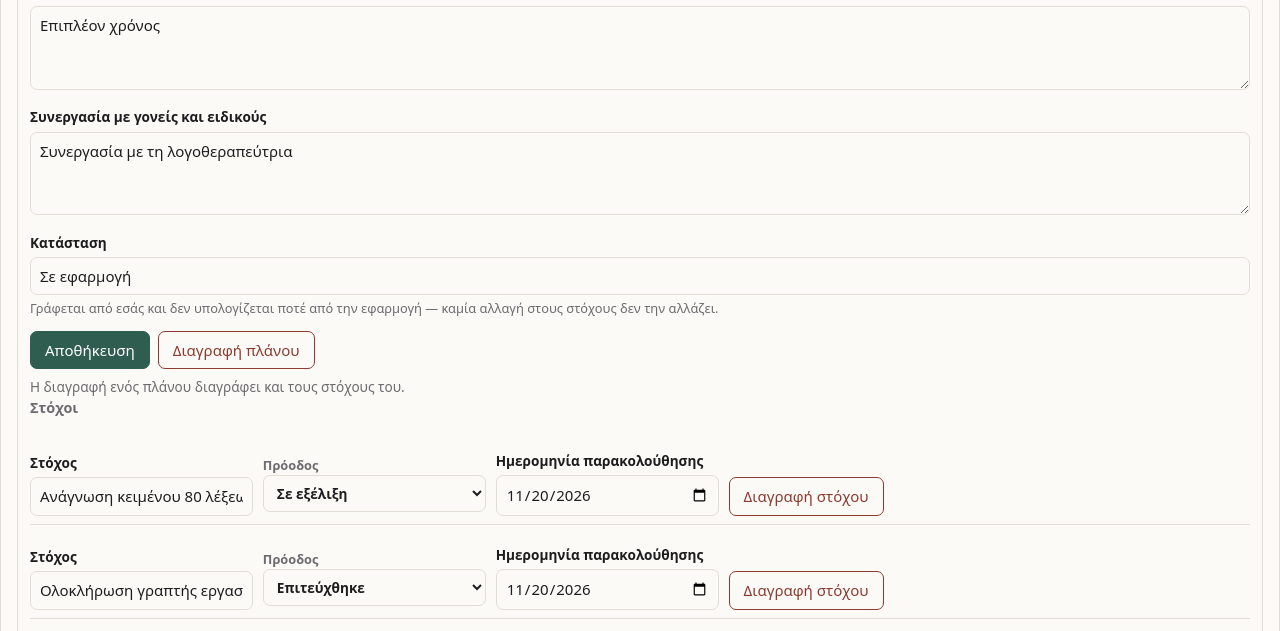
it: the cross-class support overview › reflects a plan change made above it, with nothing to regenerate
(page scrolled)
Replace the text in the field labelled "Κατάσταση" with "Αναθεωρήθηκε" at (640, 276), box [30, 257, 1250, 295]
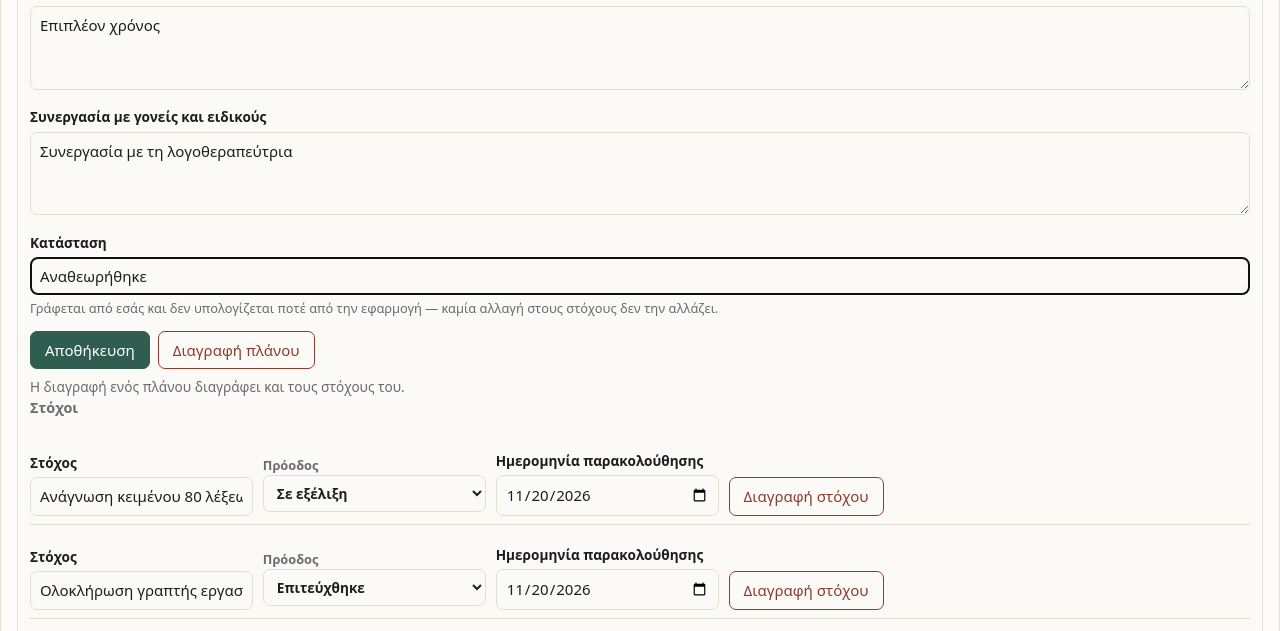
Click the button "Αποθήκευση" at (90, 350), box [30, 331, 150, 369]
(page scrolled)
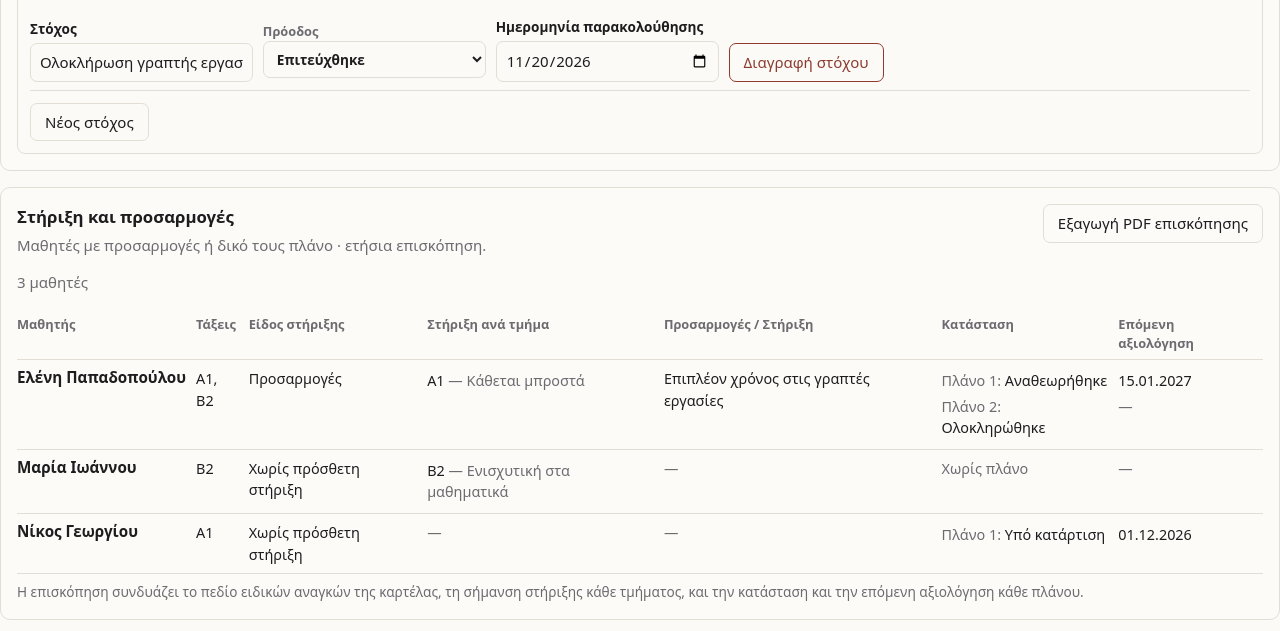
Expected: the text "Σε εφαρμογή" is not shown
Now the list item "Αναθεωρήθηκε" is shown, box [1005, 371, 1107, 390]
